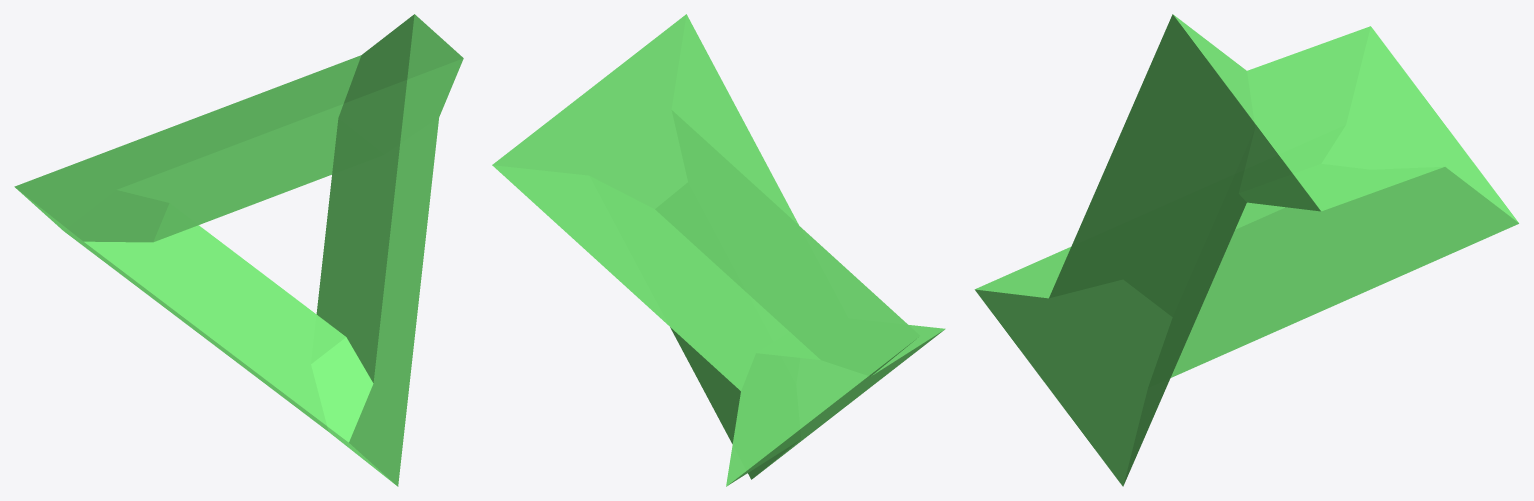
Rendered from HexagonalToroid_E.obj.
3 renders of one model, left to right at view 1: azimuth 30°, elevation 25°; view 2: azimuth 150°, elevation 25°; view 3: azimuth 270°, elevation 25°, orthographic. The views are drawn at different scales.
Bounding box in the file's own units: 6.6 × 6.6 × 6.6.
